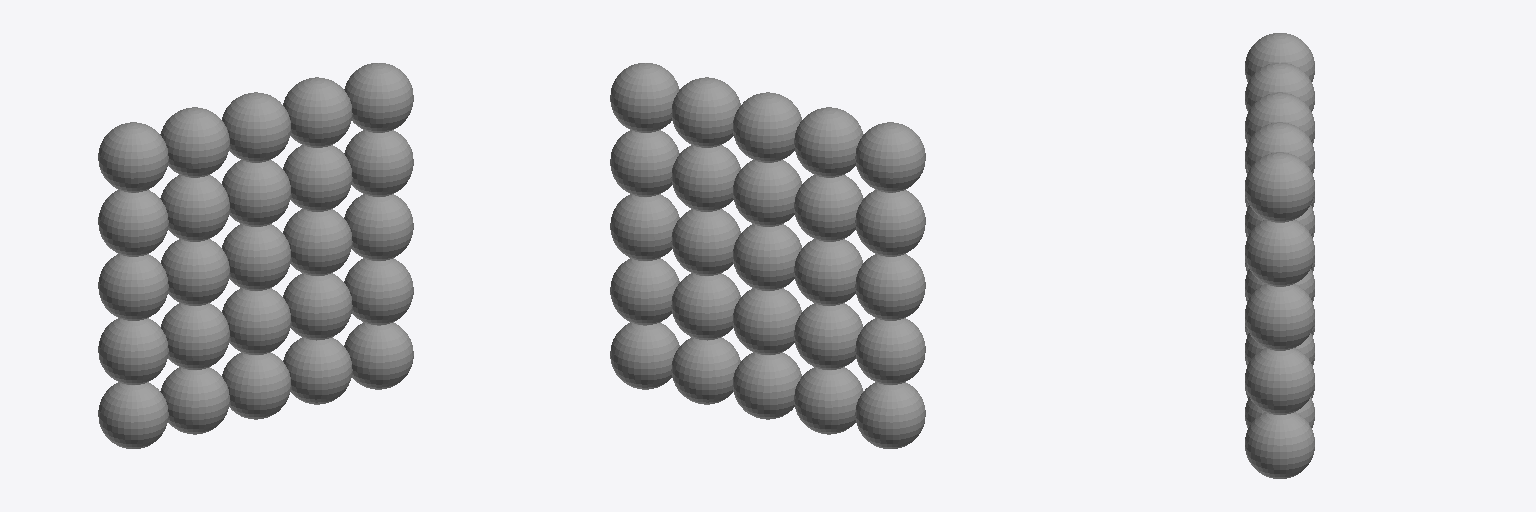
File: anis_test.obj
3 renders of one model, left to right at view 1: azimuth 30°, elevation 25°; view 2: azimuth 150°, elevation 25°; view 3: azimuth 270°, elevation 25°, orthographic.
Visible parts, largest first — view 1: Sphere.024, Sphere.005, Sphere.014, Sphere.004, Sphere.015, Sphere.022, Sphere.021, Sphere.023, Sphere.020, Sphere.012, Sphere.016, Sphere.003 (+13 smaller); view 2: Sphere.024, Sphere.005, Sphere.014, Sphere.004, Sphere.015, Sphere.022, Sphere.021, Sphere.023, Sphere.020, Sphere.012, Sphere.016, Sphere.003 (+13 smaller); view 3: Sphere.022, Sphere.017, Sphere.007, Sphere.012, Sphere.002, Sphere.024, Sphere.021, Sphere.020, Sphere.023, Sphere.011, Sphere.008, Sphere.001 (+1 smaller).
Part boxes in pixels (left/top/right/bottom): Sphere.024: left=98, top=122, right=168, bottom=192; Sphere.005: left=98, top=318, right=168, bottom=384; Sphere.014: left=98, top=254, right=168, bottom=320; Sphere.004: left=98, top=382, right=168, bottom=448; Sphere.015: left=98, top=190, right=168, bottom=256; Sphere.022: left=344, top=63, right=413, bottom=132; Sphere.021: left=283, top=77, right=352, bottom=147; Sphere.023: left=160, top=107, right=229, bottom=177; Sphere.020: left=222, top=92, right=290, bottom=162; Sphere.012: left=344, top=194, right=413, bottom=260; Sphere.016: left=160, top=175, right=229, bottom=241; Sphere.003: left=160, top=367, right=229, bottom=434; Sphere.024: left=855, top=122, right=925, bottom=192; Sphere.005: left=855, top=318, right=925, bottom=384; Sphere.014: left=855, top=254, right=925, bottom=320; Sphere.004: left=855, top=382, right=925, bottom=448; Sphere.015: left=855, top=190, right=925, bottom=256; Sphere.022: left=610, top=63, right=679, bottom=132; Sphere.021: left=671, top=77, right=740, bottom=147; Sphere.023: left=794, top=107, right=863, bottom=177; Sphere.020: left=733, top=92, right=801, bottom=162; Sphere.012: left=610, top=194, right=679, bottom=260; Sphere.016: left=794, top=175, right=863, bottom=241; Sphere.003: left=794, top=367, right=863, bottom=434; Sphere.022: left=1245, top=152, right=1314, bottom=222; Sphere.017: left=1245, top=220, right=1314, bottom=286; Sphere.007: left=1245, top=348, right=1314, bottom=414; Sphere.012: left=1245, top=284, right=1314, bottom=350; Sphere.002: left=1245, top=412, right=1314, bottom=478; Sphere.024: left=1245, top=33, right=1314, bottom=81; Sphere.021: left=1245, top=122, right=1314, bottom=171; Sphere.020: left=1245, top=92, right=1314, bottom=141; Sphere.023: left=1245, top=63, right=1314, bottom=111; Sphere.011: left=1245, top=269, right=1314, bottom=299; Sphere.008: left=1245, top=333, right=1314, bottom=363; Sphere.001: left=1245, top=397, right=1314, bottom=427.
Bounding box in the file's own units: 10 × 10 × 2.